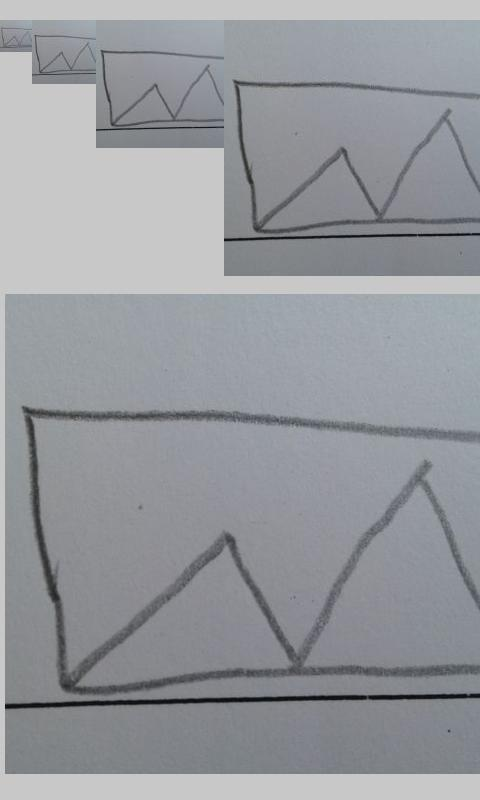image_view: (25, 405, 473, 697), (232, 78, 480, 234), (100, 49, 225, 127), (34, 35, 95, 72), (1, 27, 32, 47)
